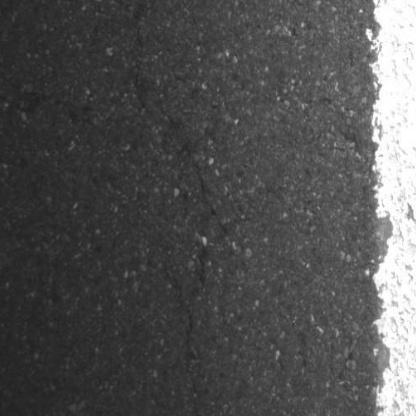Cracks: (182, 145, 252, 288), (162, 270, 199, 362), (131, 26, 153, 118)
